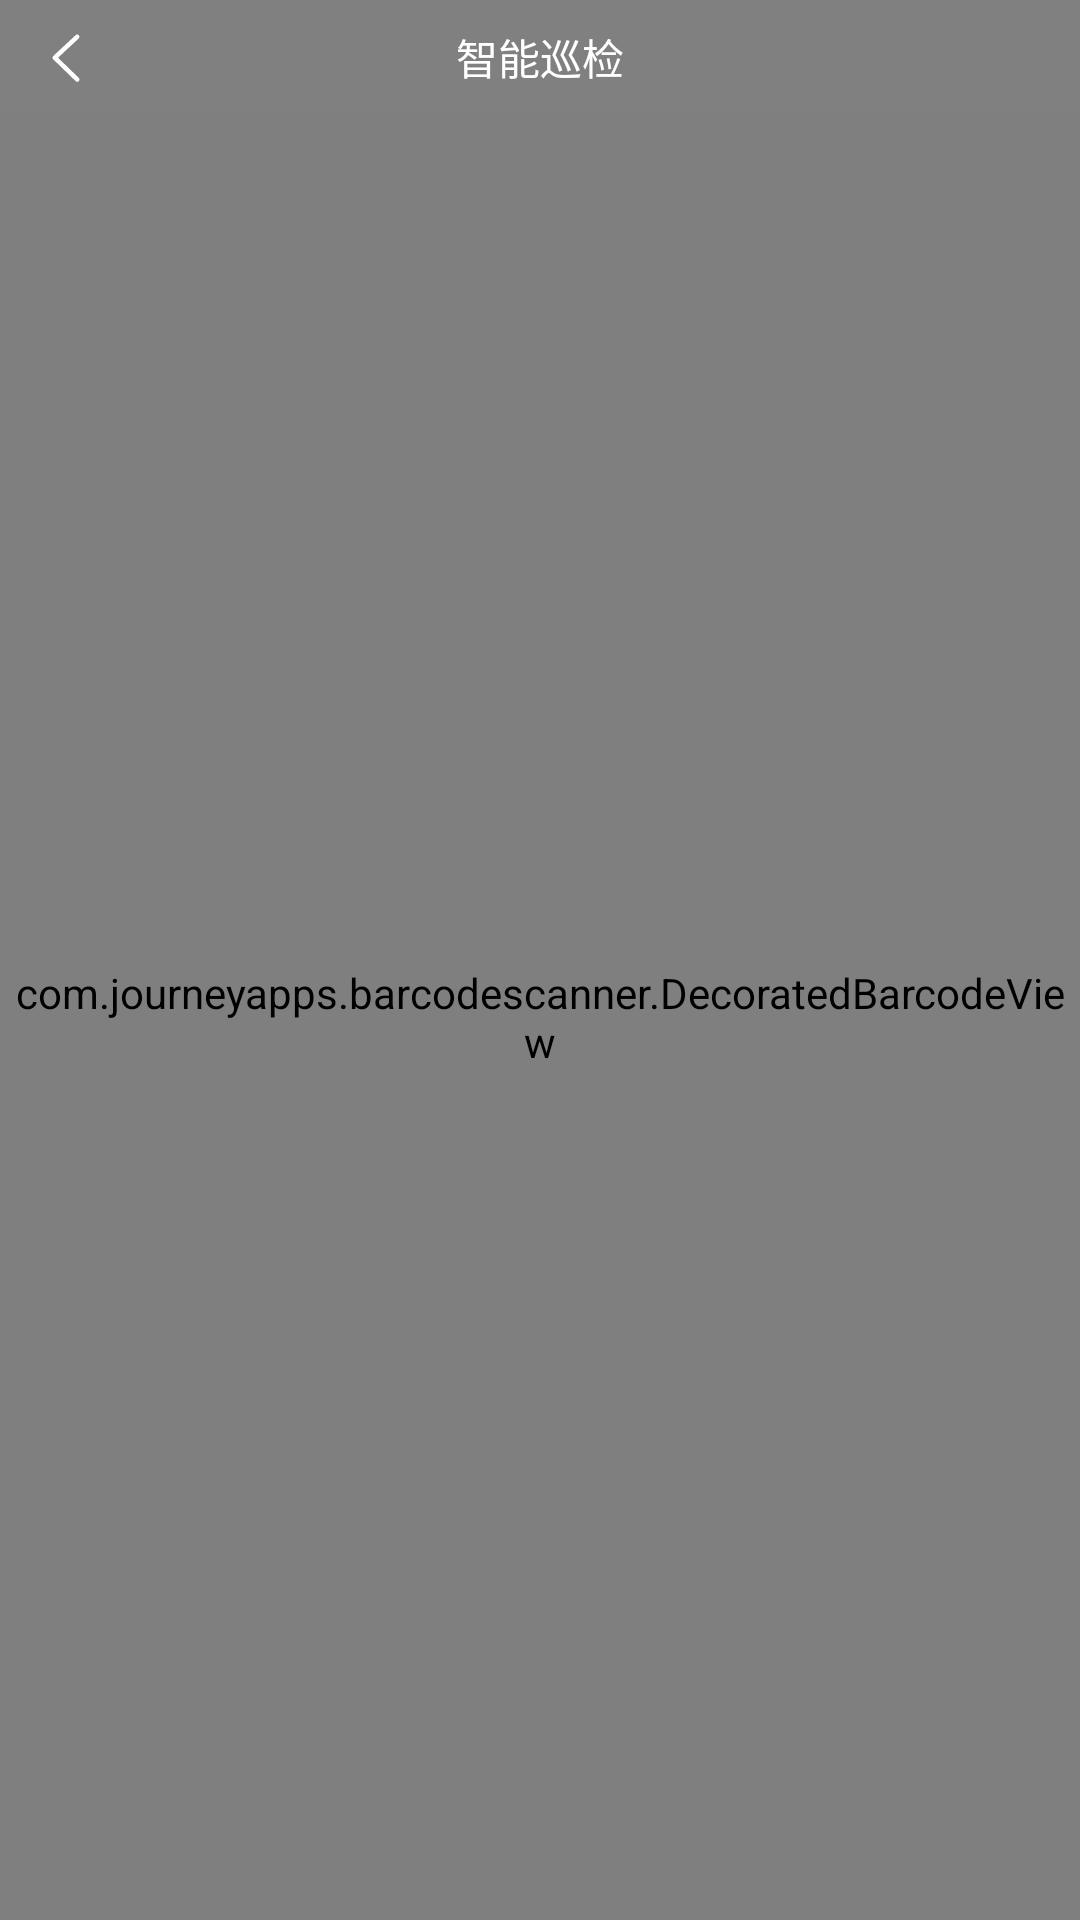

Locate icon controls on the screen. Image size 1080px x 1920px, boxes as (x1, y1, x2, y2).
return imageview: (52, 34, 80, 82)
